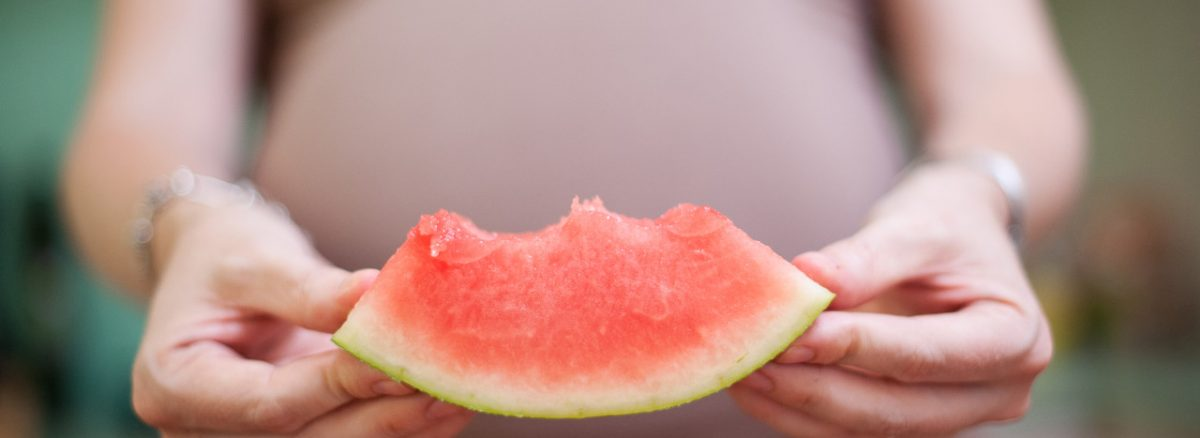Semangka: (234, 184, 818, 427)
